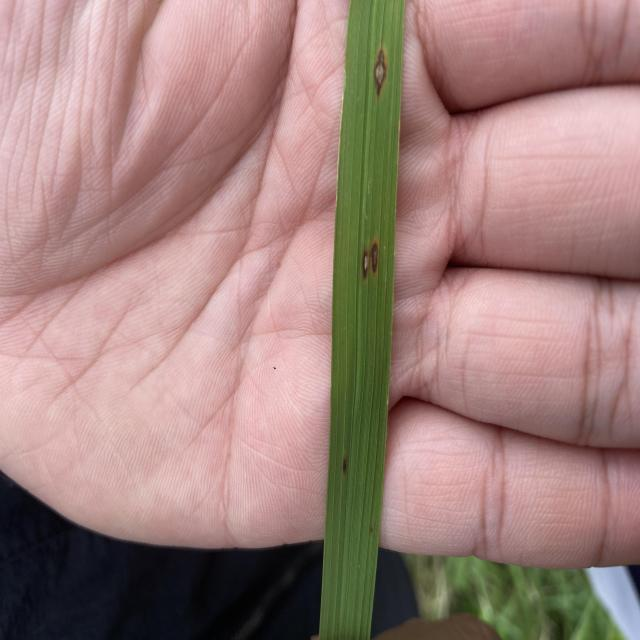Dao on: (374, 48, 387, 98), (371, 240, 379, 277), (362, 250, 371, 279)
